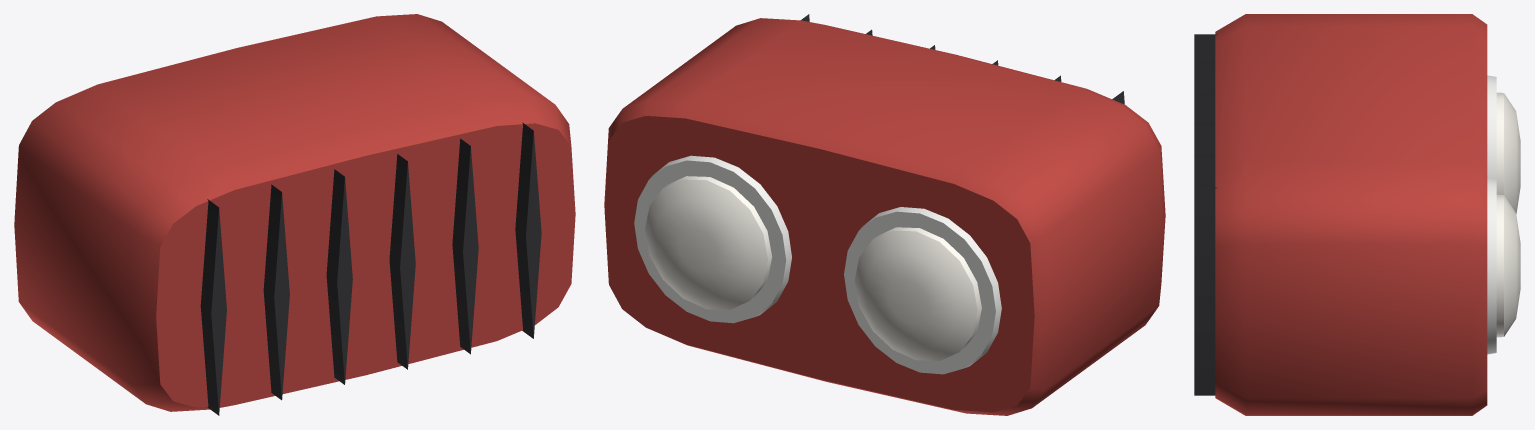
The model's file is projector.glb.
The picture shows the model from 3 angles, left to right: view 1: azimuth 30°, elevation 25°; view 2: azimuth 150°, elevation 25°; view 3: azimuth 270°, elevation 25°; orthographic projection.
Visible parts, largest first — view 1: lod0; view 2: lod0; view 3: lod0.
Boxes of the visible parts, left/top/right/bottom form: lod0: left=14, top=14, right=575, bottom=415; lod0: left=604, top=14, right=1165, bottom=415; lod0: left=1194, top=14, right=1520, bottom=415.
Size of what is drawn, in the model's own units: 0.17 by 0.09 by 0.108.
